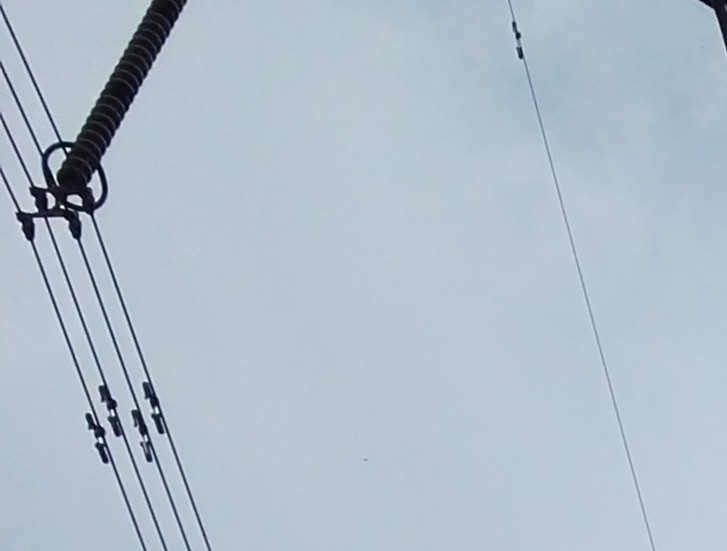damper: (82, 406, 107, 469), (97, 381, 123, 439), (141, 377, 166, 437), (129, 404, 154, 463)
